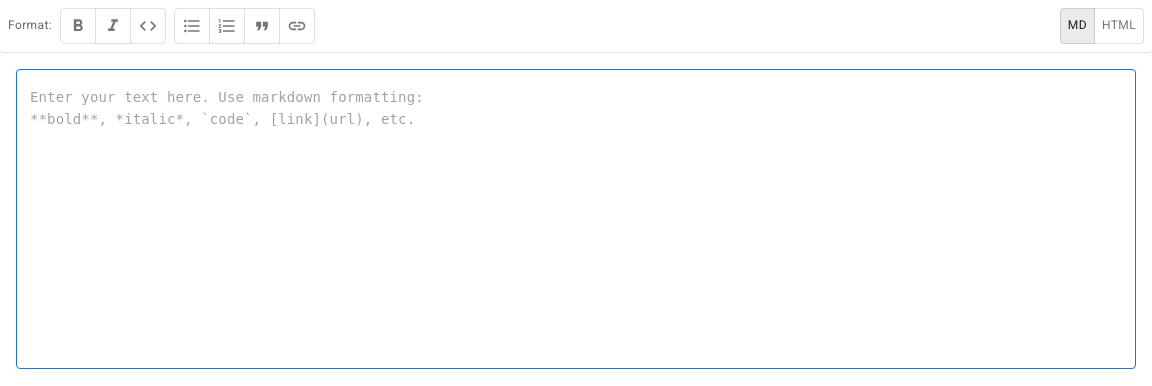
Test: StaticSection › should show HTML placeholder text in HTML mode
# Switch to HTML mode
Click the button "HTML". click: [1119, 26]
box: [1094,8,1144,44]
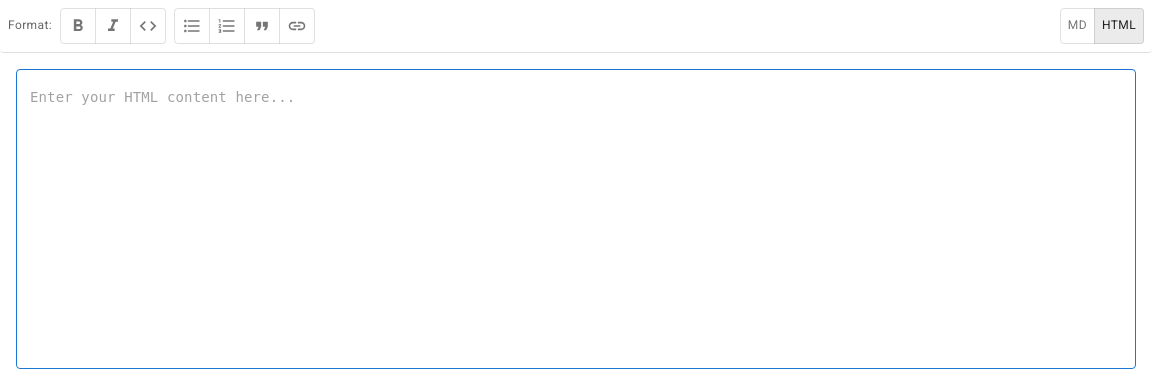
expect the text box with placeholder "Enter your HTML content here..." is shown: met, box [30,86,1122,108]
